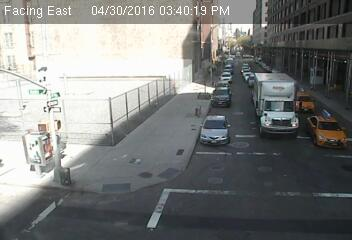neg: (153, 115, 181, 153), (52, 149, 71, 175), (113, 167, 132, 192), (172, 84, 187, 105), (189, 34, 204, 54), (288, 63, 301, 80), (330, 39, 342, 55), (236, 73, 247, 88), (285, 44, 296, 57), (323, 91, 333, 105), (221, 35, 229, 46), (247, 35, 255, 46)
